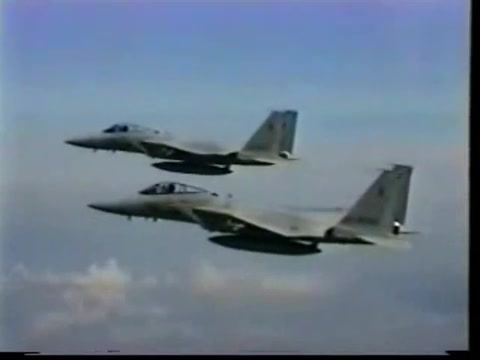aeroplane: (87, 163, 426, 258)
